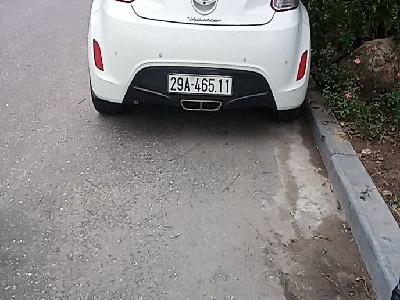lisence: (166, 71, 234, 98)
